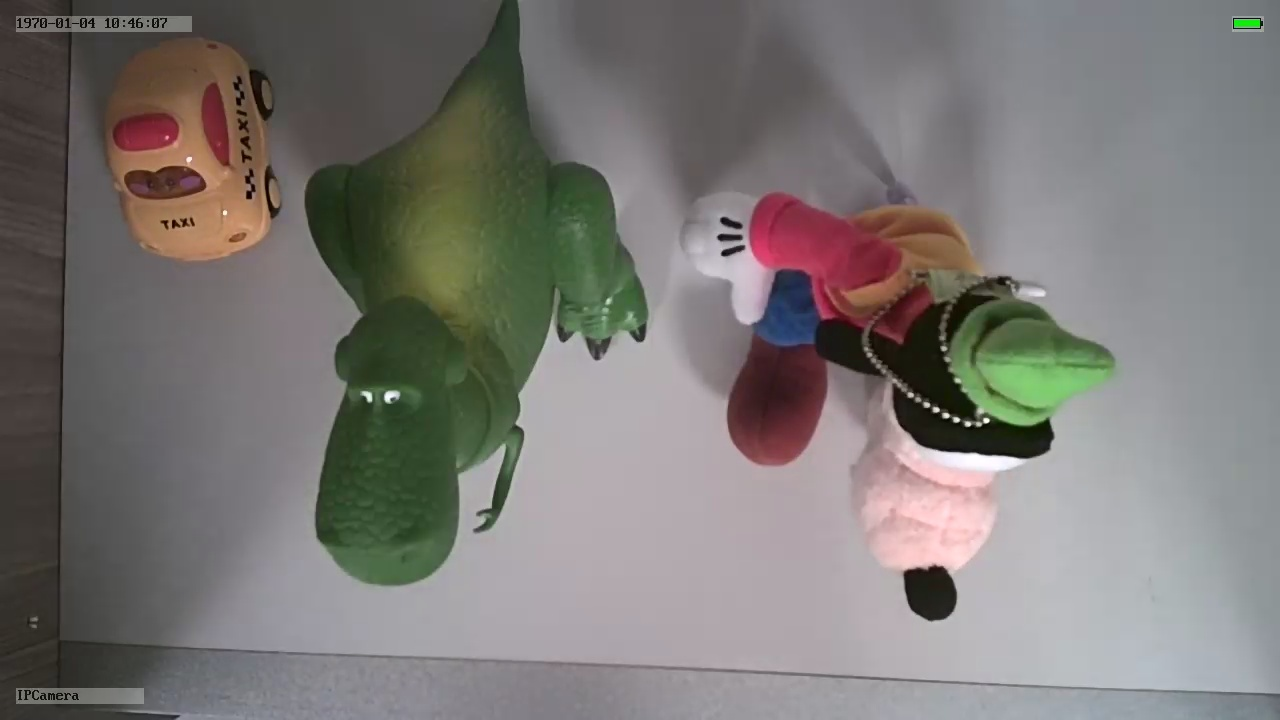car: (103, 34, 284, 262)
goofy: (676, 176, 1122, 626)
rex: (303, 56, 647, 590)
